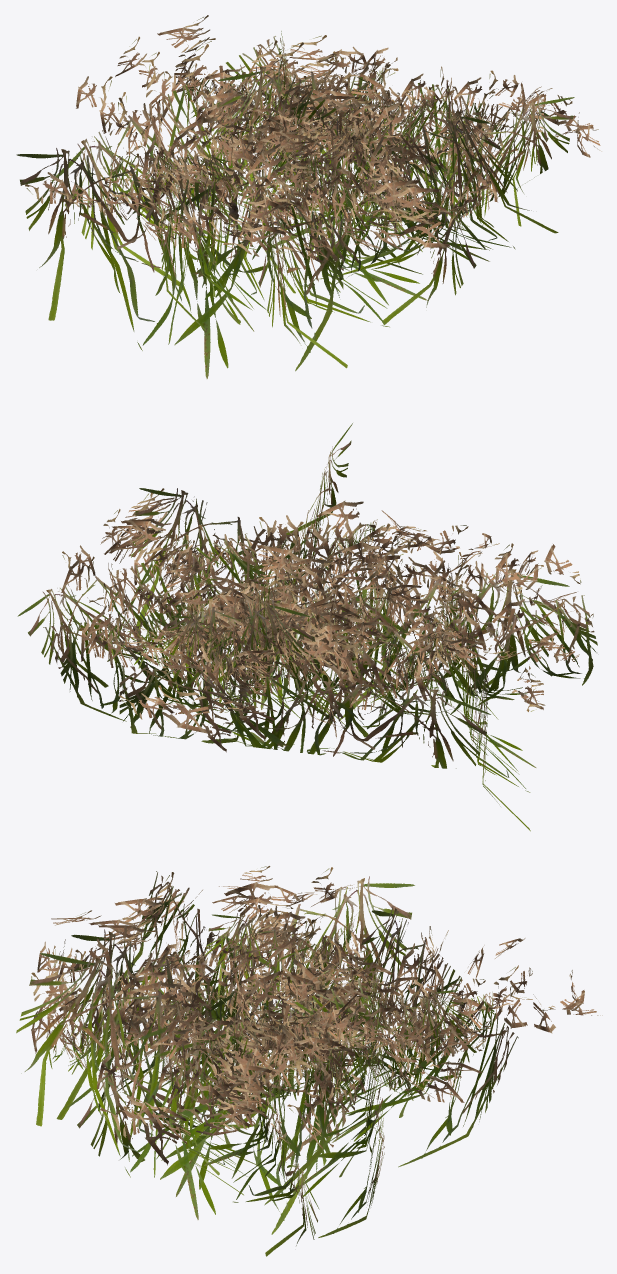
File: BIO_VEG_GrassTest.fbx
The picture shows the model from 3 angles, top to bottom: view 1: azimuth 30°, elevation 25°; view 2: azimuth 150°, elevation 25°; view 3: azimuth 270°, elevation 25°; orthographic projection. The views are drawn at different scales.
Parts seen in each view (by area): view 1: BIO_VEG_GrassTest; view 2: BIO_VEG_GrassTest; view 3: BIO_VEG_GrassTest.
Boxes of the visible parts, <box> form: BIO_VEG_GrassTest: <box>16,15,601,378</box>; BIO_VEG_GrassTest: <box>17,423,597,831</box>; BIO_VEG_GrassTest: <box>16,866,602,1256</box>.
Size of the model in its own units: 125 by 57.25 by 113.
